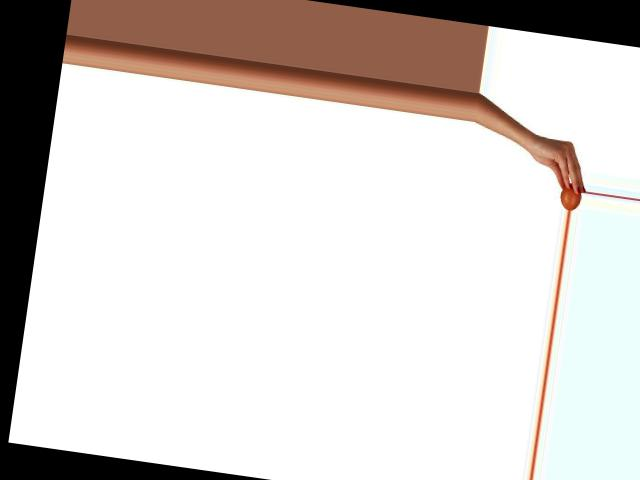egg: (558, 182, 582, 210)
